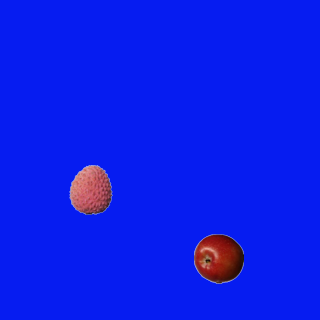Apple Braeburn: (193, 233, 243, 283)
Lychee: (65, 164, 115, 214)
